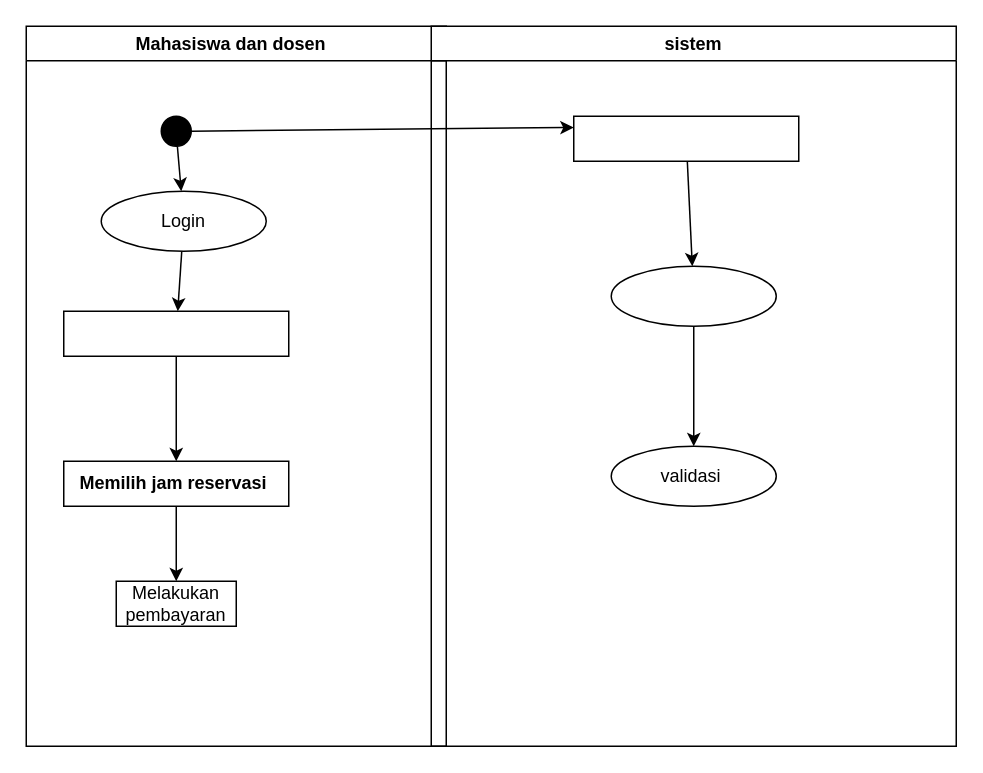
The diagram is 983 pixels wide and 773 high, and some of its shapes have lost their labels. The shapes that lost their labels are listed below. From the top down, each one's centre as x and y in pixels, then its label:
At (x=685, y=138): "Menerima notifikasi reservasi".
At (x=693, y=295): "Jadwal tersedia".
At (x=175, y=333): "Memilih menu reservasi lapangan".
